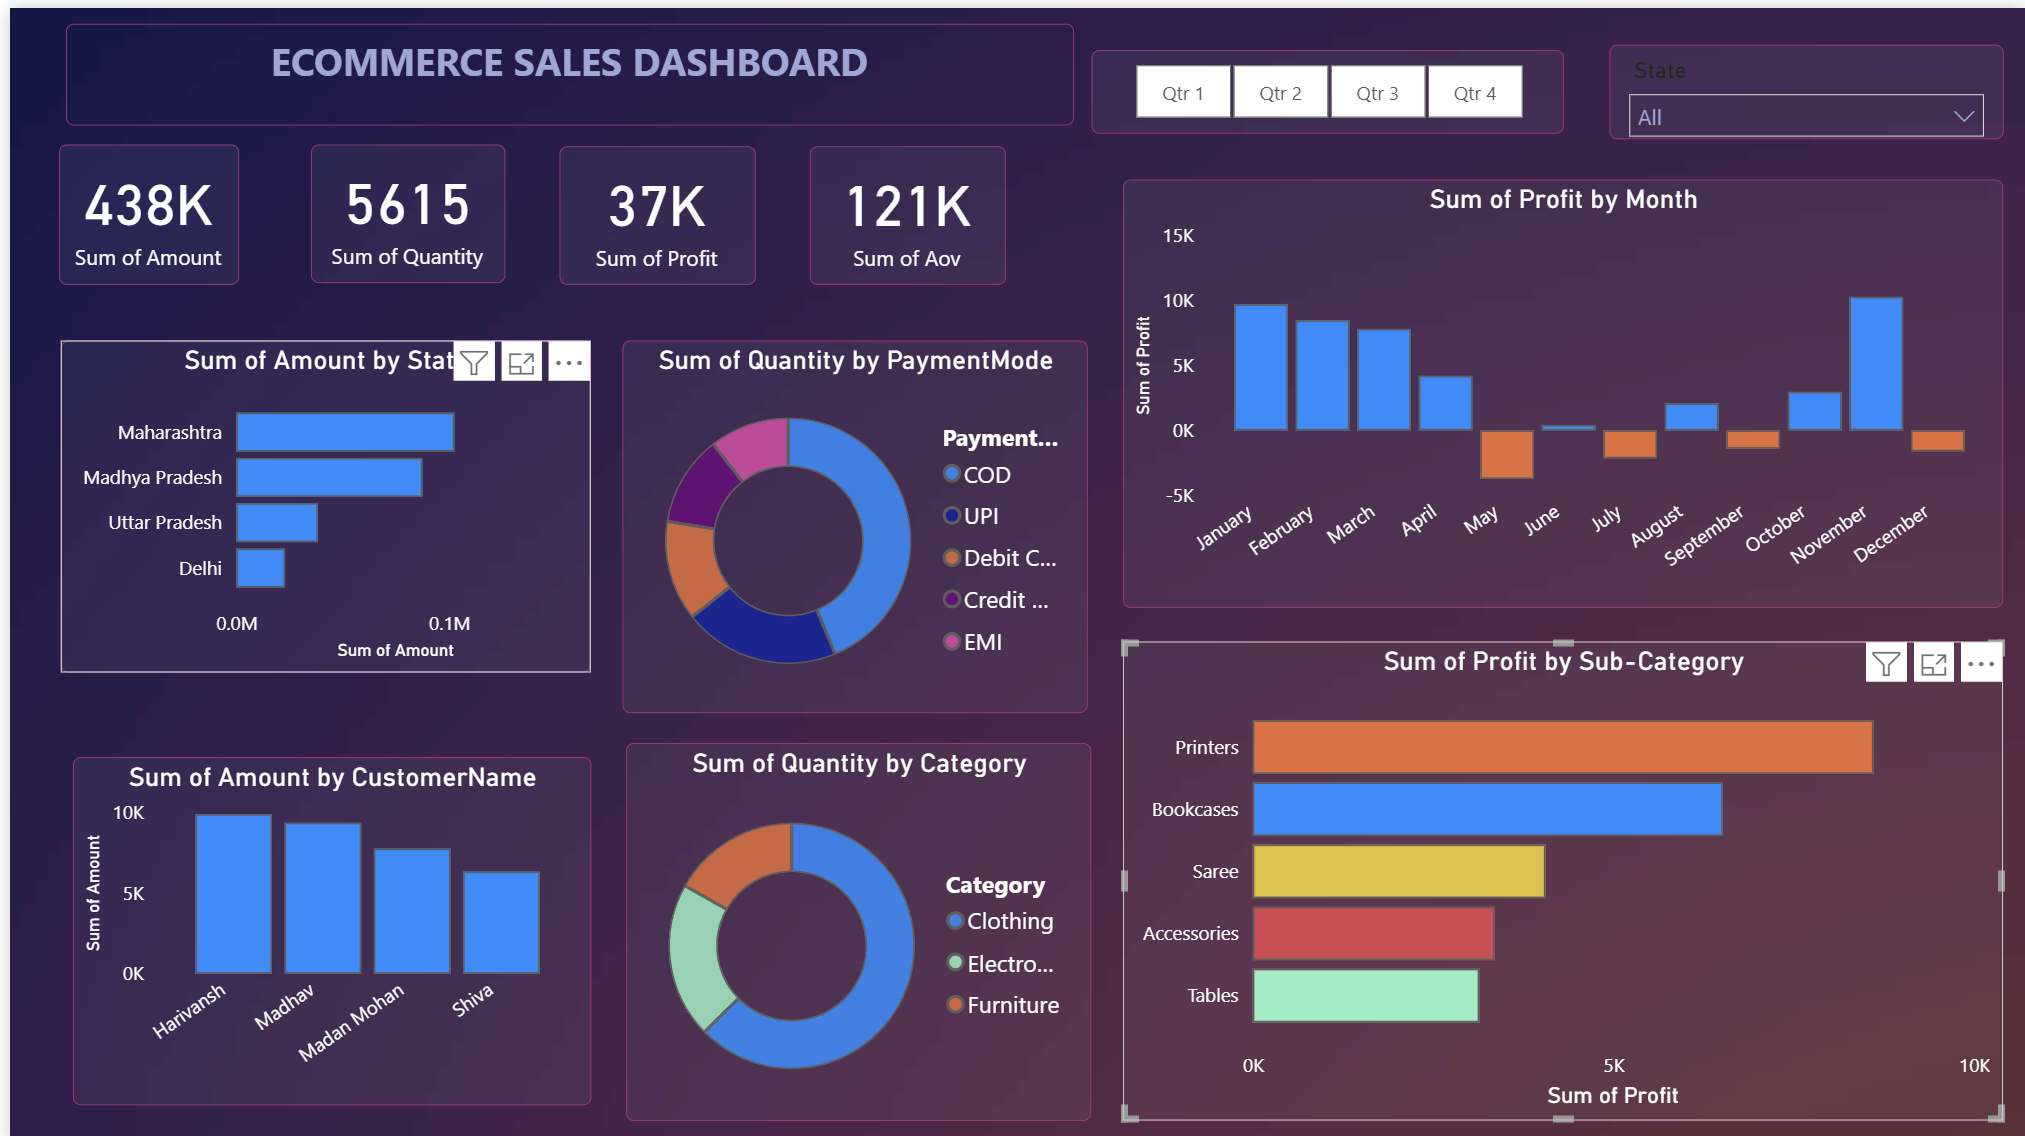

What the dashboard file says about the page in this screenshot:
{"tool":"powerbi","page":{"name":"Page 1","canvas":[1280,720],"ordinal":0},"visuals":[{"type":"textbox","box":[35.6,10,640,64.4],"z":0},{"type":"columnChart","fields":{"Category":["Orders.Order Date.Variation.Date Hierarchy.Month"],"Y":["Sum(Details.Profit)"]},"box":[706.7,108.9,558.9,272.2],"z":1000},{"type":"barChart","fields":{"Category":["Details.Sub-Category"],"Y":["Sum(Details.Profit)"]},"box":[706.7,402.2,558.9,304.4],"z":2000},{"type":"donutChart","fields":{"Category":["Details.Category"],"Y":["Sum(Details.Quantity)"]},"box":[391.1,466.7,295.6,240],"z":3000},{"type":"donutChart","fields":{"Y":["Sum(Details.Quantity)"],"Category":["Details.PaymentMode"]},"box":[388.9,211.1,295.6,236.7],"z":4000},{"type":"card","fields":{"Values":["Sum(Details.Amount)"]},"box":[31.1,86.7,114.4,88.9],"z":5000},{"type":"card","fields":{"Values":["Sum(Details.Quantity)"]},"box":[191.1,86.7,123.3,87.8],"z":6000},{"type":"card","fields":{"Values":["Sum(Details.Profit)"]},"box":[348.9,87.8,124.4,87.8],"z":7000},{"type":"card","fields":{"Values":["Sum(Details.Aov)"]},"box":[507.8,87.8,124.4,87.8],"z":8000},{"type":"barChart","fields":{"Category":["Orders.State"],"Y":["Sum(Details.Amount)"]},"box":[32.2,211.1,336.7,211.1],"z":9000},{"type":"columnChart","fields":{"Category":["Orders.CustomerName"],"Y":["Sum(Details.Amount)"]},"box":[40,475.6,328.9,221.1],"z":10000},{"type":"slicer","fields":{"Values":["Orders.Order Date.Variation.Date Hierarchy.Quarter"]},"box":[686.7,26.7,300,53.3],"z":11000},{"type":"slicer","fields":{"Values":["Orders.State"]},"box":[1015.6,23.3,250,60],"z":11001}]}

Visuals, with their boxes in screenshot pixels (x1, y1, x2, y2), scaled from the page's 1280x720 canvas onto the 2025x1136 screenshot:
textbox: (left=56, top=16, right=1069, bottom=117)
columnChart - Orders.Order Date.Variation.Date Hierarchy.Month x Sum(Details.Profit): (left=1118, top=172, right=2002, bottom=601)
barChart - Details.Sub-Category x Sum(Details.Profit): (left=1118, top=635, right=2002, bottom=1115)
donutChart - Details.Category x Sum(Details.Quantity): (left=619, top=736, right=1086, bottom=1115)
donutChart - Sum(Details.Quantity) x Details.PaymentMode: (left=615, top=333, right=1083, bottom=707)
card - Sum(Details.Amount): (left=49, top=137, right=230, bottom=277)
card - Sum(Details.Quantity): (left=302, top=137, right=497, bottom=275)
card - Sum(Details.Profit): (left=552, top=139, right=749, bottom=277)
card - Sum(Details.Aov): (left=803, top=139, right=1000, bottom=277)
barChart - Orders.State x Sum(Details.Amount): (left=51, top=333, right=584, bottom=666)
columnChart - Orders.CustomerName x Sum(Details.Amount): (left=63, top=750, right=584, bottom=1099)
slicer - Orders.Order Date.Variation.Date Hierarchy.Quarter: (left=1086, top=42, right=1561, bottom=126)
slicer - Orders.State: (left=1607, top=37, right=2002, bottom=131)
